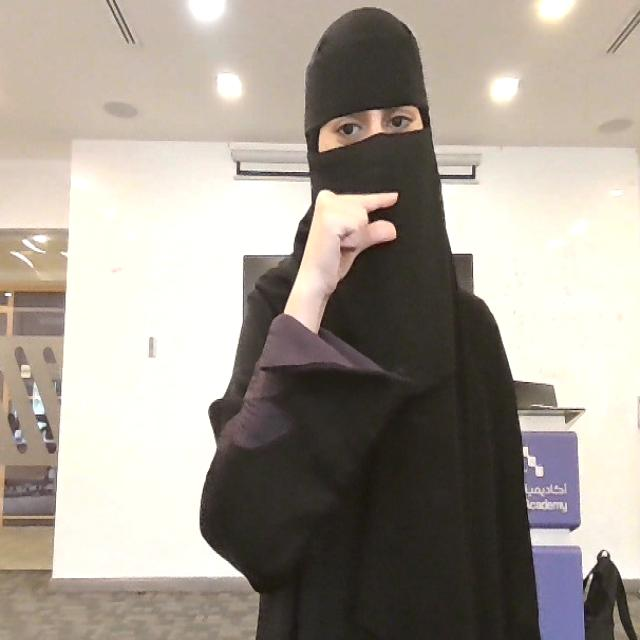fasting: (299, 188, 403, 294)
